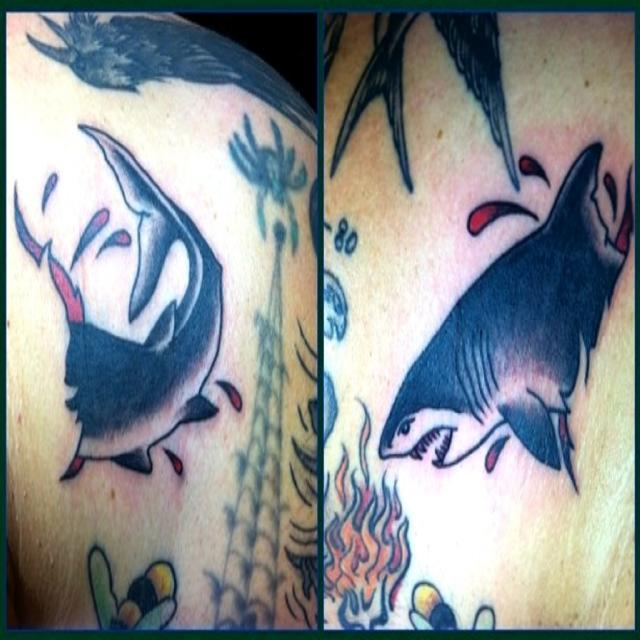Shark: (381, 142, 618, 465)
